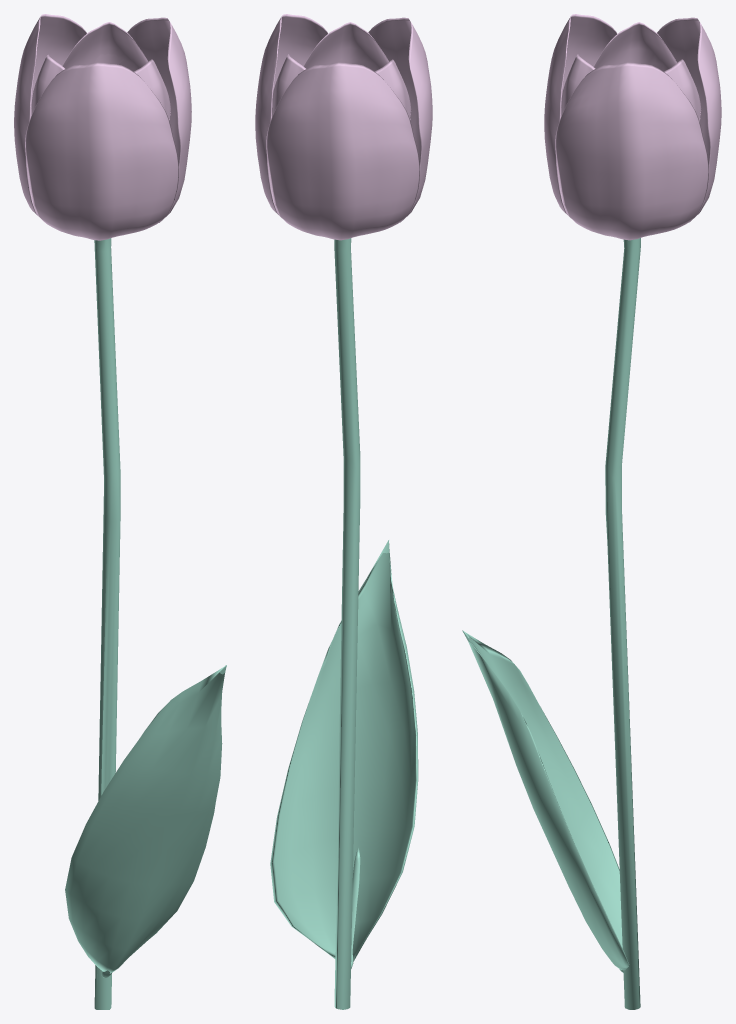
The model's file is tulip1JOINEDfinal.glb.
3 views of the same model, side by side, from view 1: azimuth 30°, elevation 25°; view 2: azimuth 150°, elevation 25°; view 3: azimuth 270°, elevation 25° (orthographic).
Visible parts, largest first — view 1: Plane.005, Cylinder, Cylinder.003; view 2: Plane.005, Cylinder, Cylinder.003; view 3: Plane.005, Cylinder, Cylinder.003.
Boxes of the visible parts, x1,y1,x2,y2 form: Plane.005: (14,14,191,240); Cylinder: (65,665,226,977); Cylinder.003: (94,238,120,1009); Plane.005: (255,14,432,240); Cylinder: (270,540,418,968); Cylinder.003: (334,238,360,1009); Plane.005: (544,14,721,240); Cylinder: (462,630,629,972); Cylinder.003: (605,238,640,1009).
Size of the model in its own units: 1.3 by 7.47 by 1.81.
